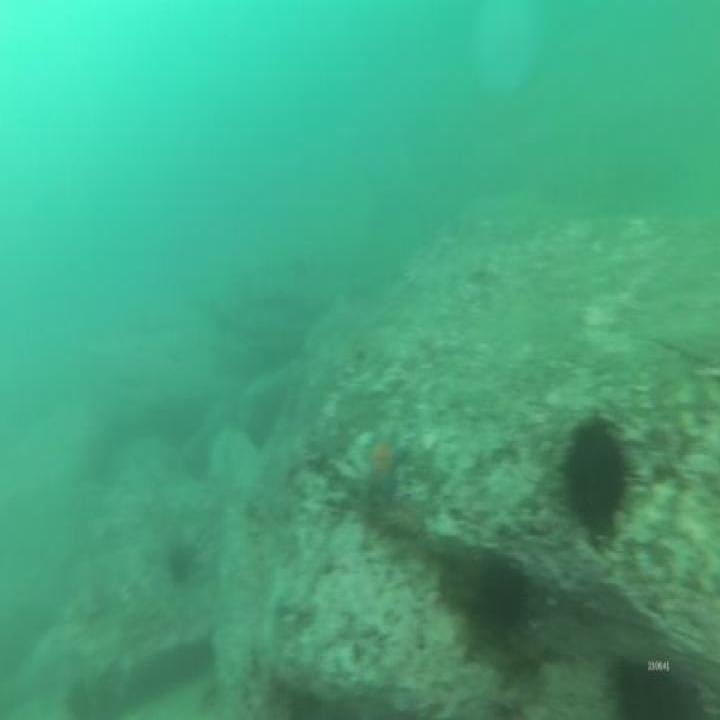echinus: (554, 407, 634, 541), (460, 535, 540, 649), (608, 649, 710, 720)
starfish: (363, 419, 411, 498)
